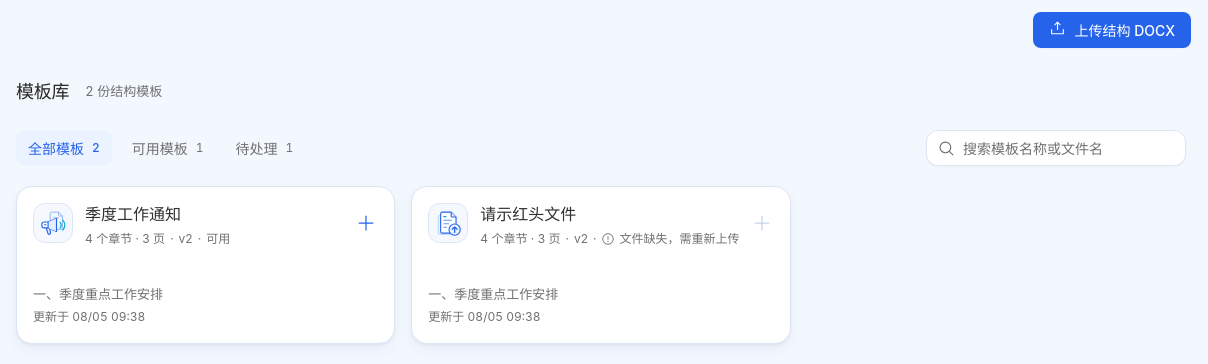
Test: TemplateLibraryView › 把编译文件丢失的模板标成需重新上传，并挡住使用入口
This screenshot has width=1208, height=364.
Expected: the text "文件缺失，需重新上传" is shown, [602,230,740,248]
Expected: the button named "使用模板 请示红头文件" is disabled, [744,205,780,241]
Click the button "待处理 1": (264, 148) [224,130,305,166]
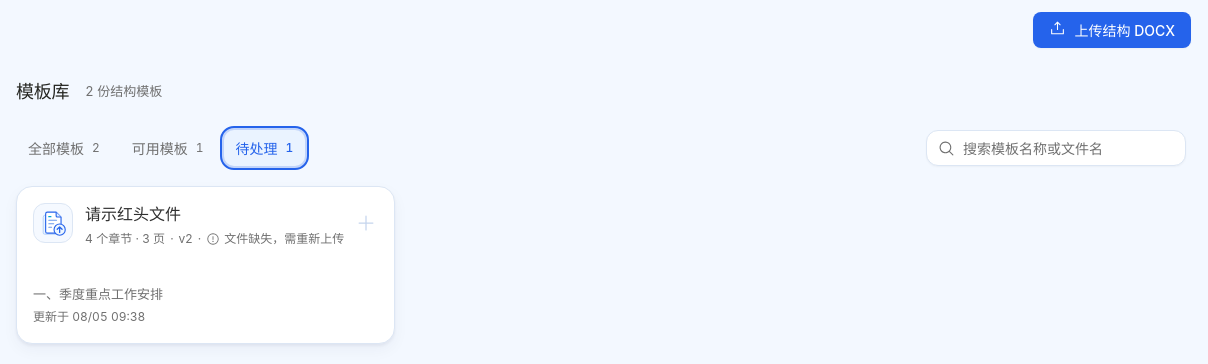
Now the number of buttons named "打开模板" is 1, box [17,187,394,343]
